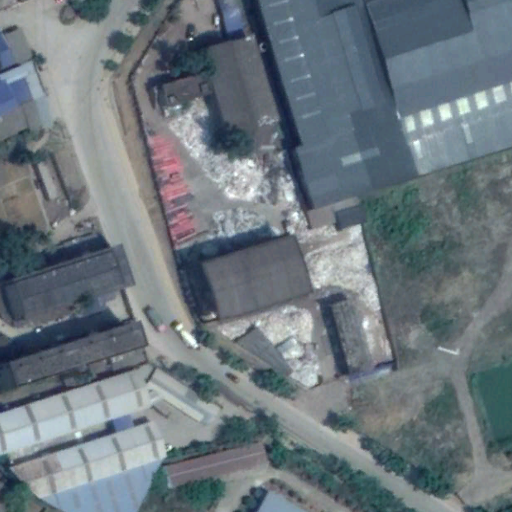msw: (171, 104, 299, 202), (286, 211, 385, 315), (215, 304, 319, 389), (199, 209, 283, 256)
